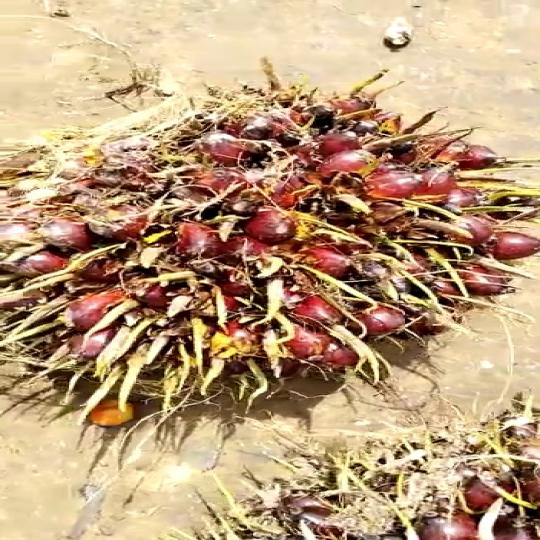masak: (0, 71, 510, 437)
